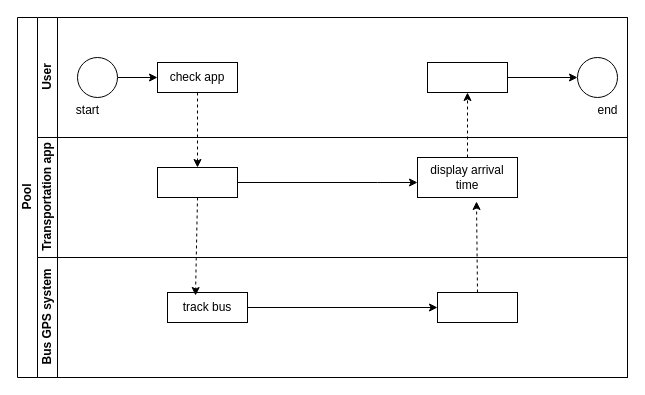
Some shapes in this 645 by 395 pixel diagram are drawn without their labels. The box of each missing label's shape, as (x1, y1, x2, y2) in pixels:
get location: (156, 166, 238, 198)
send ETA: (436, 292, 518, 322)
wait for bus: (426, 62, 508, 92)
